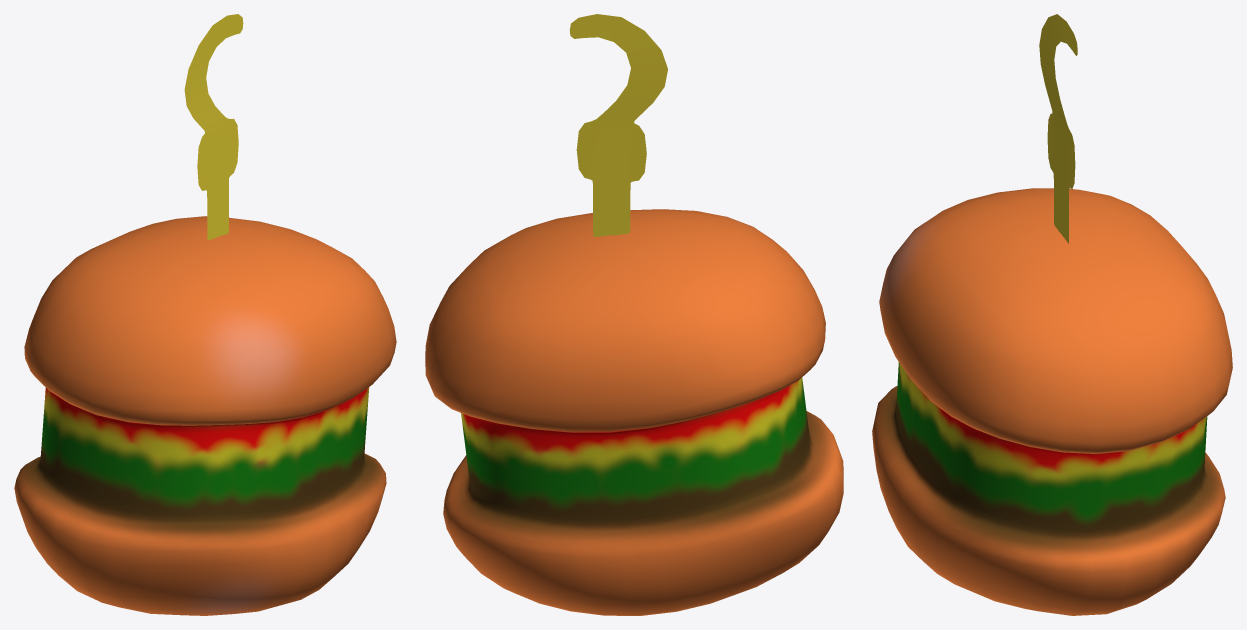
The model's file is Burger.glb.
3 renders of one model, left to right at view 1: azimuth 30°, elevation 25°; view 2: azimuth 150°, elevation 25°; view 3: azimuth 270°, elevation 25°, orthographic.
Visible parts, largest first — view 1: Burger; view 2: Burger; view 3: Burger.
Part boxes in pixels (bbox=[...]): Burger: bbox=[14, 14, 396, 615]; Burger: bbox=[425, 14, 843, 615]; Burger: bbox=[872, 14, 1232, 615].
Size of the model in its own units: 0.1303 by 0.1967 by 0.1139.
1 material, 1 textured.
